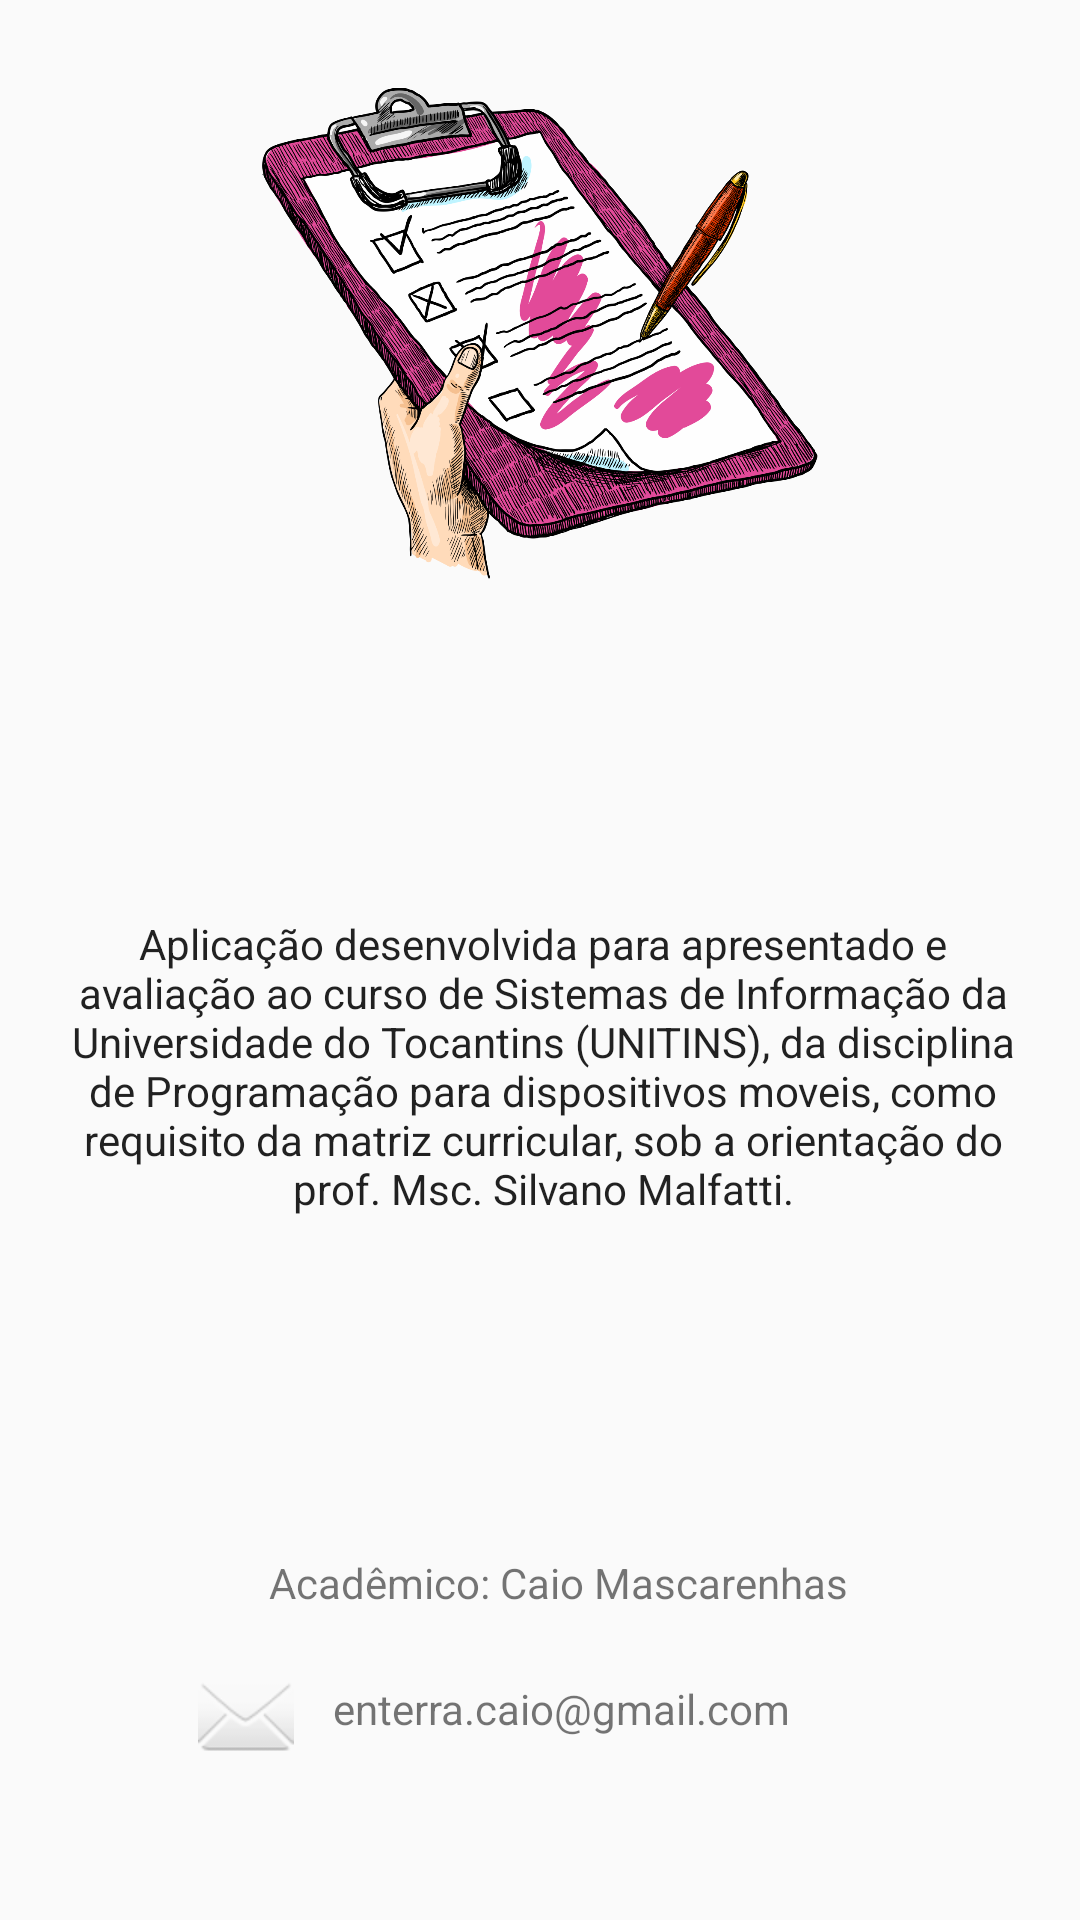

Screen size 1080x1920. Icon name, then its center in pixels as [x,y]:
email: [246,1718]
